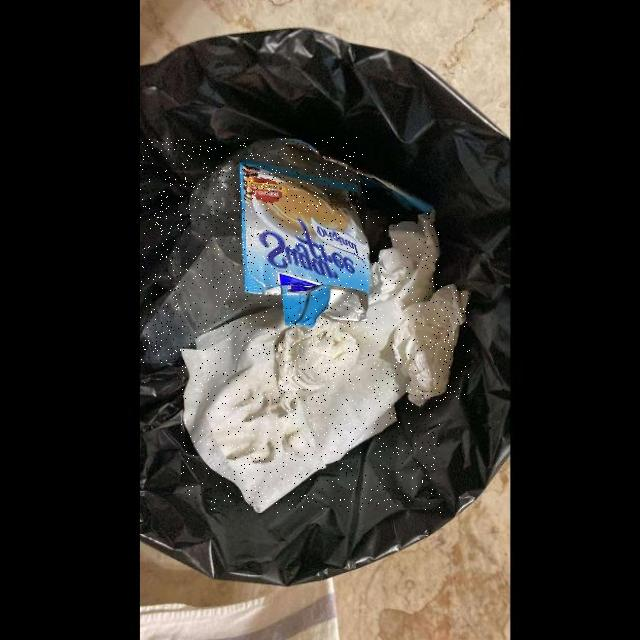paper: (182, 213, 441, 512), (393, 283, 470, 406), (274, 312, 361, 391)
plastic: (140, 137, 363, 362)
wrapper: (239, 160, 372, 325)
